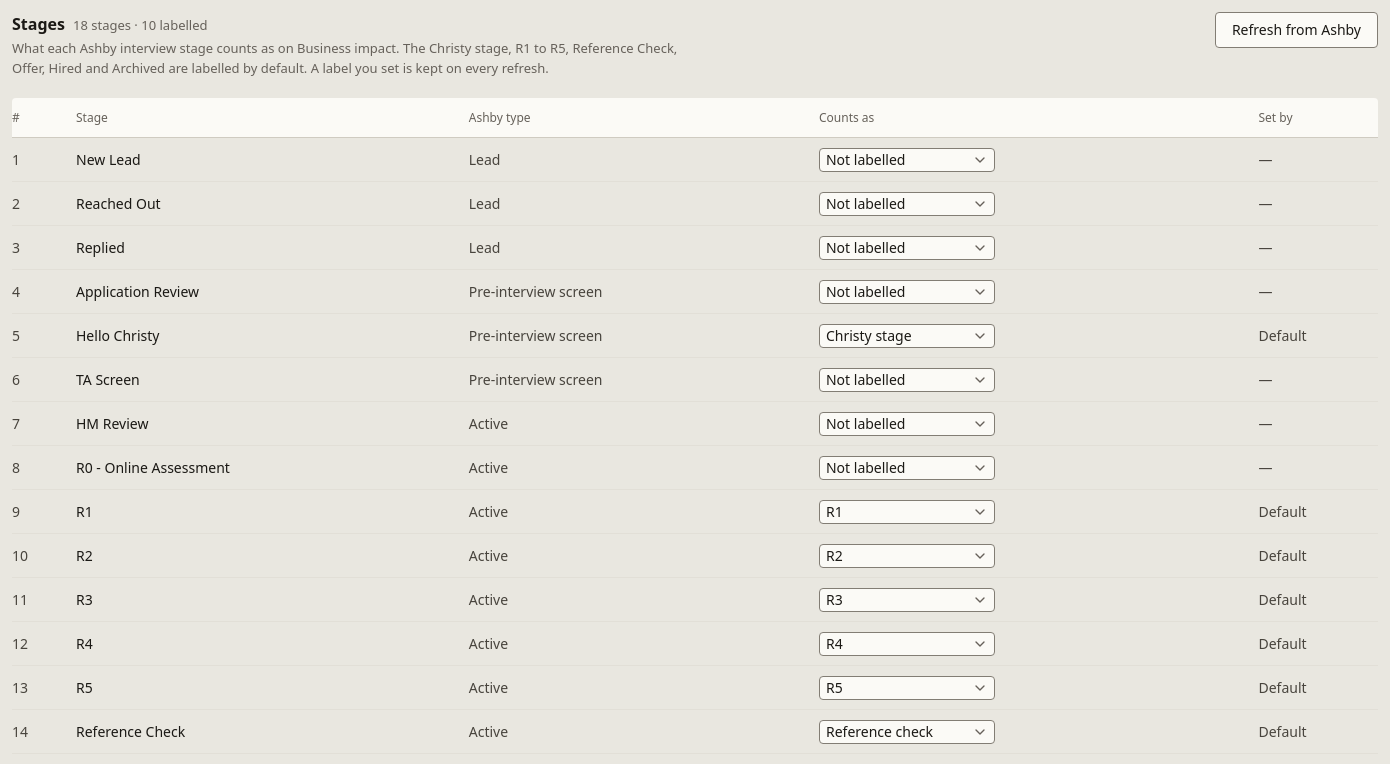
Test case: StagesSection › a refresh with the integration off says so
Click the button "Refresh from Ashby": click(1296, 30) top-left (1215, 12), bottom-right (1378, 48)
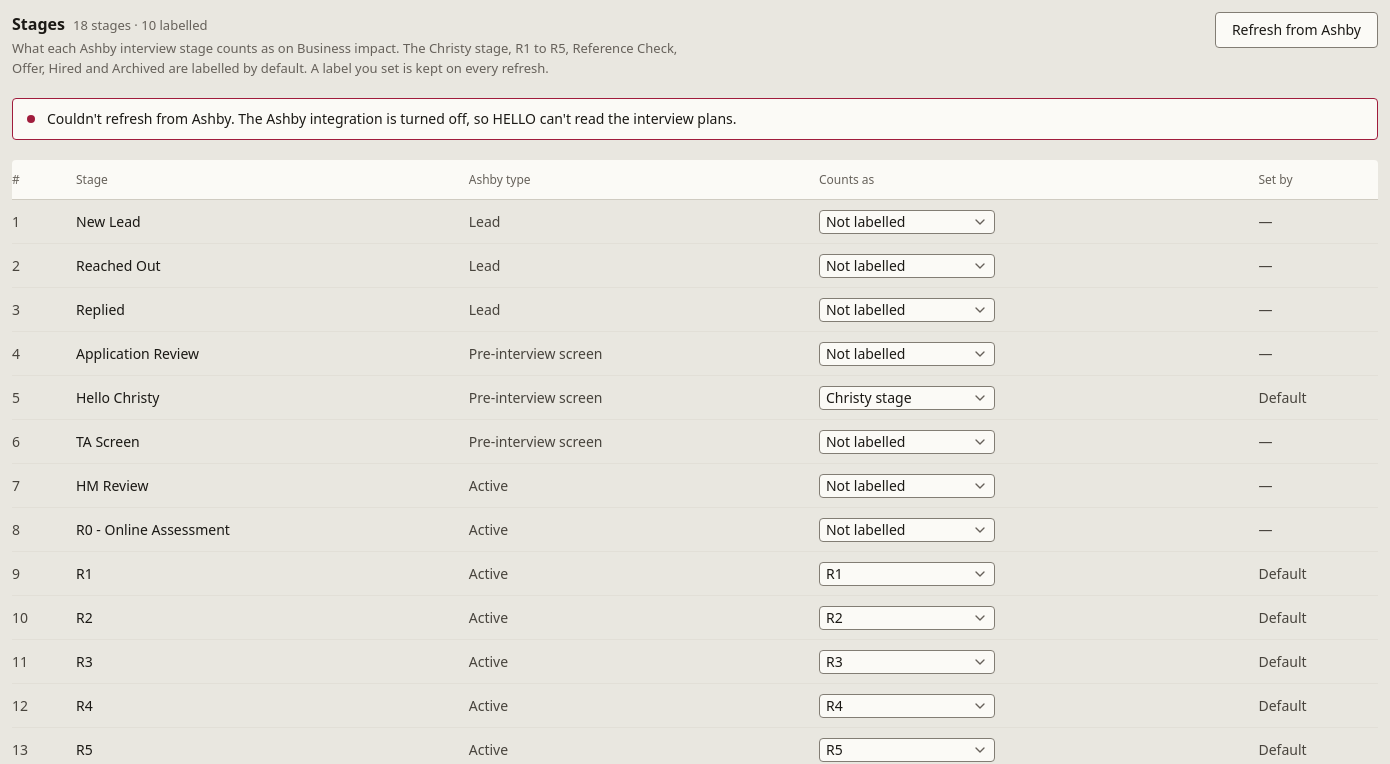
Now the message shows "Couldn't refresh from Ashby. The Ashby integration is turned off, so HELLO can't read the interview plans.", box top-left (47, 109), bottom-right (736, 128)
